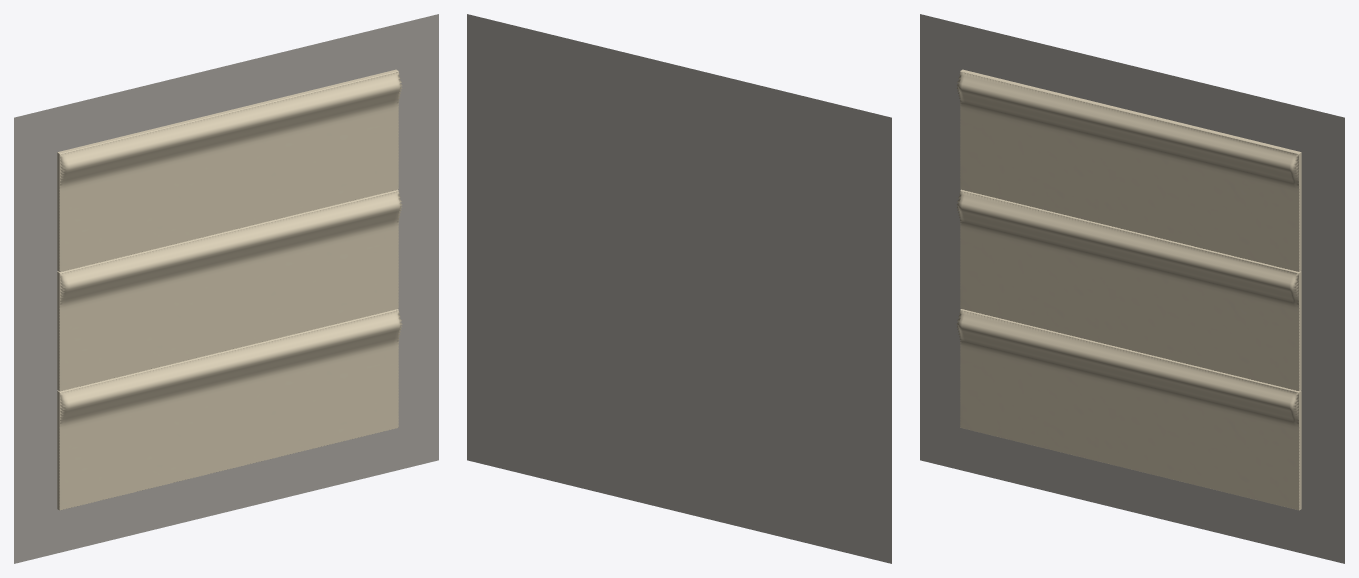
Rendered from terilgan.glb.
3 renders of one model, left to right at view 1: azimuth 30°, elevation 25°; view 2: azimuth 150°, elevation 25°; view 3: azimuth 330°, elevation 25°, orthographic.
Visible parts, largest first — view 1: Plane, t2_0, t1_0, t0_0; view 2: Plane; view 3: Plane, t2_0, t1_0, t0_0.
Part boxes in pixels (x1,y1,x2,y2): Plane: [14, 14, 438, 563]; t2_0: [57, 69, 402, 271]; t1_0: [57, 189, 402, 391]; t0_0: [57, 309, 402, 510]; Plane: [467, 14, 891, 563]; Plane: [920, 14, 1344, 563]; t2_0: [956, 69, 1301, 271]; t1_0: [956, 189, 1301, 391]; t0_0: [956, 309, 1301, 510].
Size of the model in its own units: 1.5 by 1.51 by 0.042.
